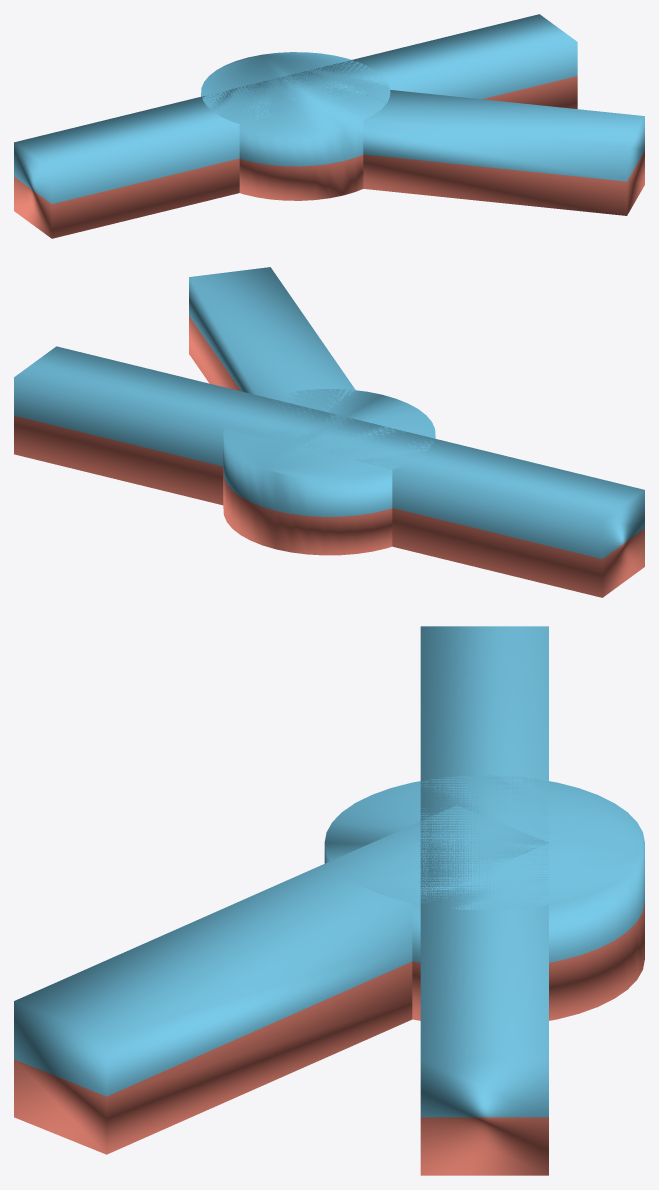
3 views of the same model, one above another, from view 1: azimuth 30°, elevation 25°; view 2: azimuth 150°, elevation 25°; view 3: azimuth 270°, elevation 25° (orthographic). The views are drawn at different scales.
Visible parts, largest first — view 1: Cube.001; view 2: Cube.001; view 3: Cube.001.
Boxes of the visible parts, box(x1,y1,x2,y2) form: Cube.001: box(14, 14, 644, 238); Cube.001: box(14, 267, 644, 597); Cube.001: box(14, 626, 644, 1175).
Size of the model in its own units: 1600 by 200 by 985.
